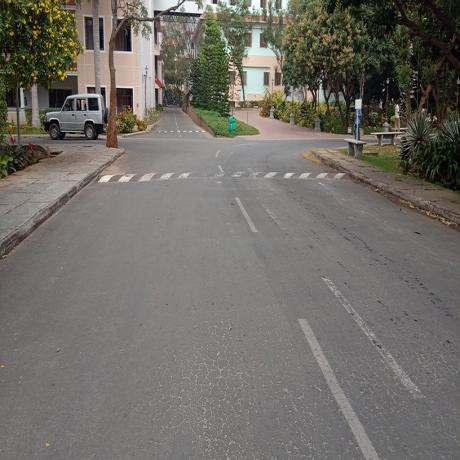Speed Bump: (94, 169, 350, 181)
